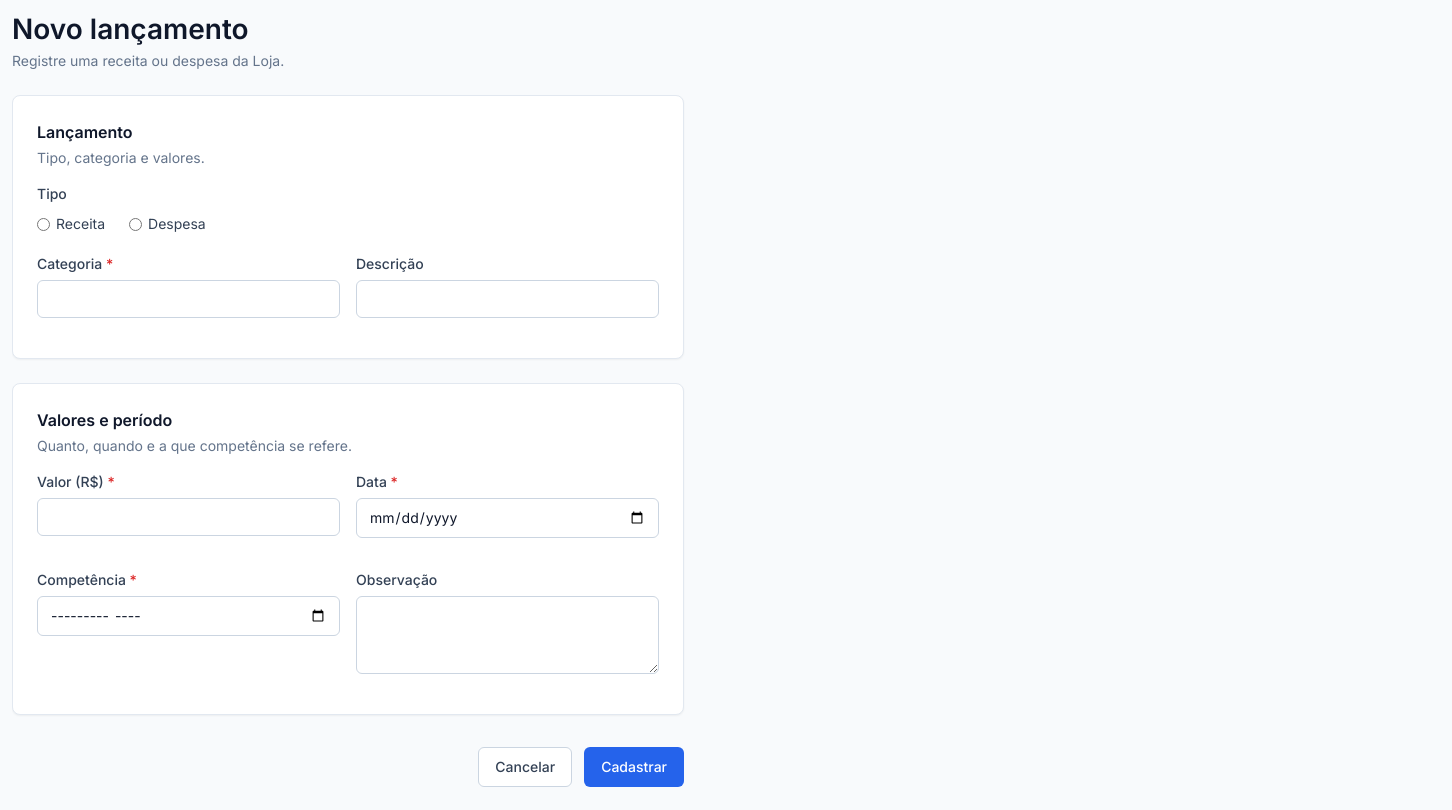
LancamentoFormPage — data não pode ser futura › exibe a mensagem 422 do backend para data futura
This screenshot has width=1452, height=810.
Step 1. Click the radio button labelled "Receita" → (44, 224), box [37,218,50,230]
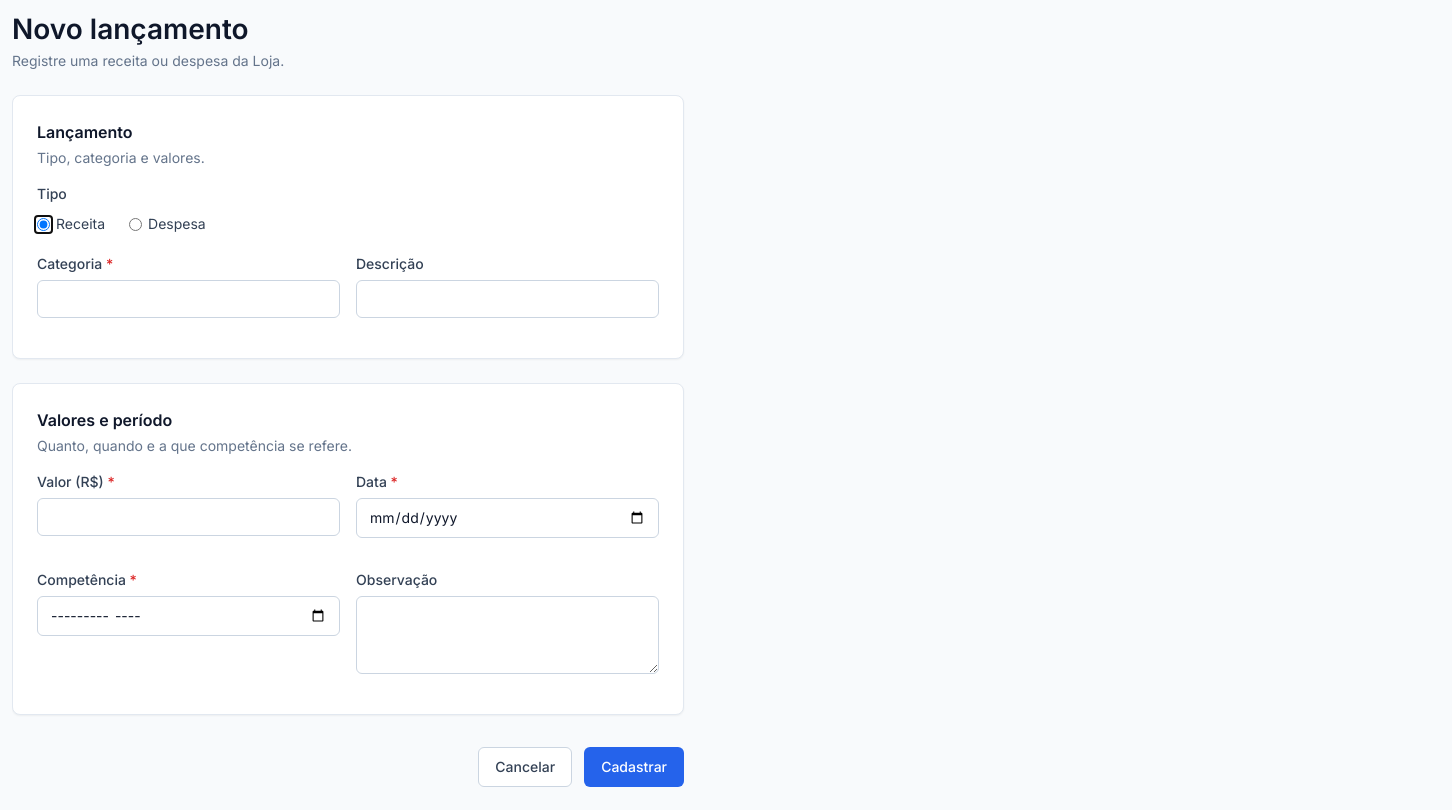
Step 2. Type "Doação" into the field labelled "Categoria *" → (188, 299), box [37,280,340,318]
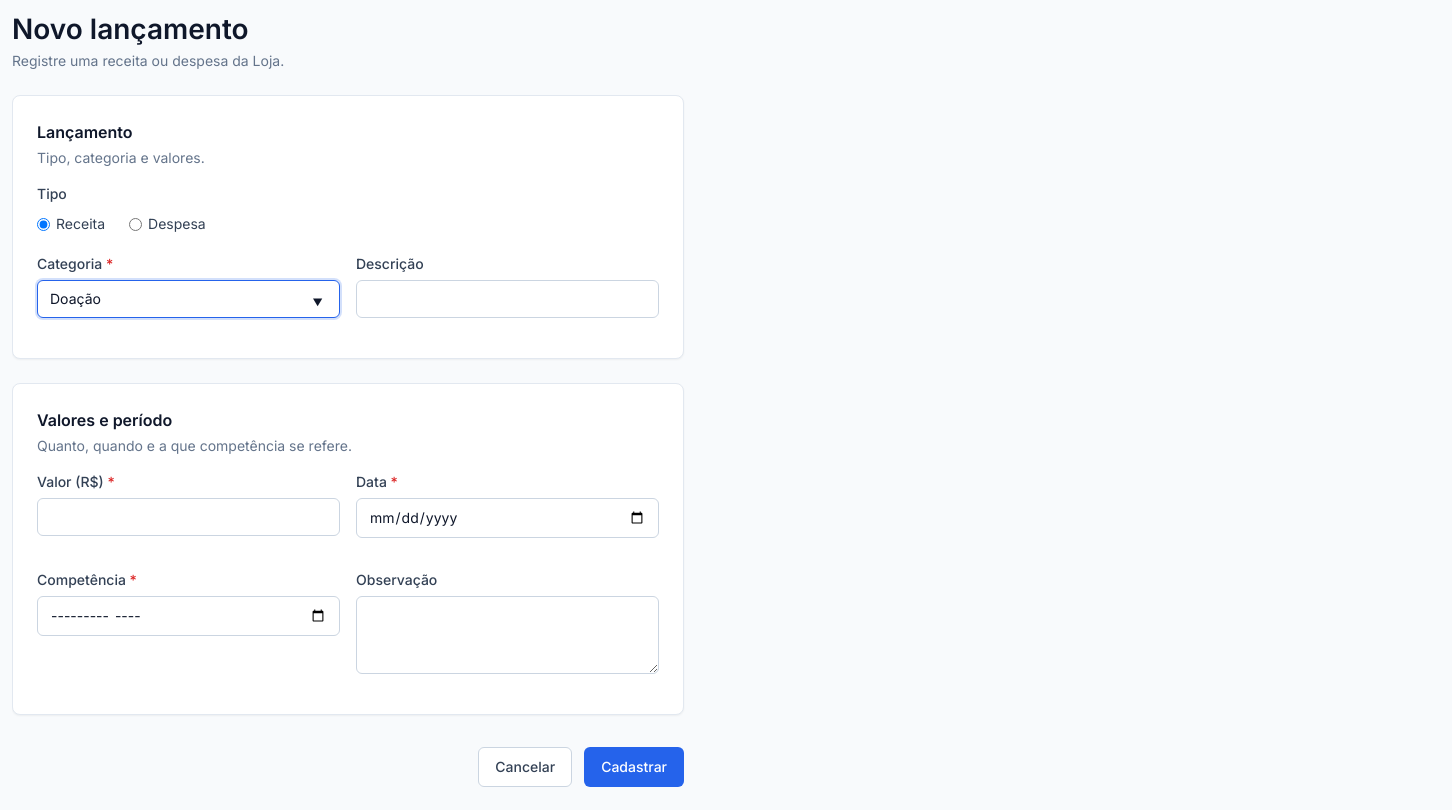
Step 3. Type "50" into the number field labelled "Valor (R$) *" → (188, 517), box [37,498,340,536]
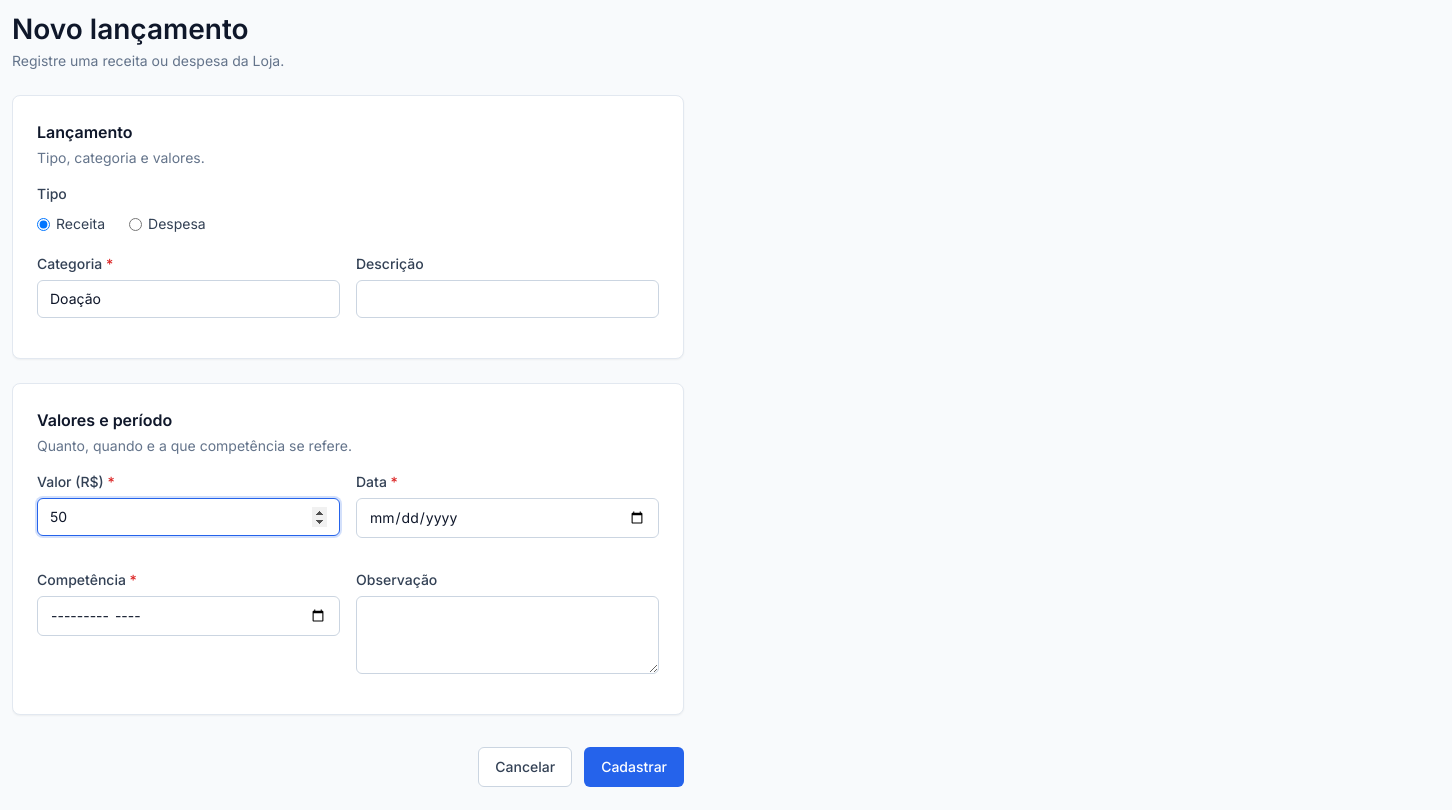
Step 4. Type "2026-08-31" into the date field labelled "Data *" → (508, 518), box [356,498,659,538]
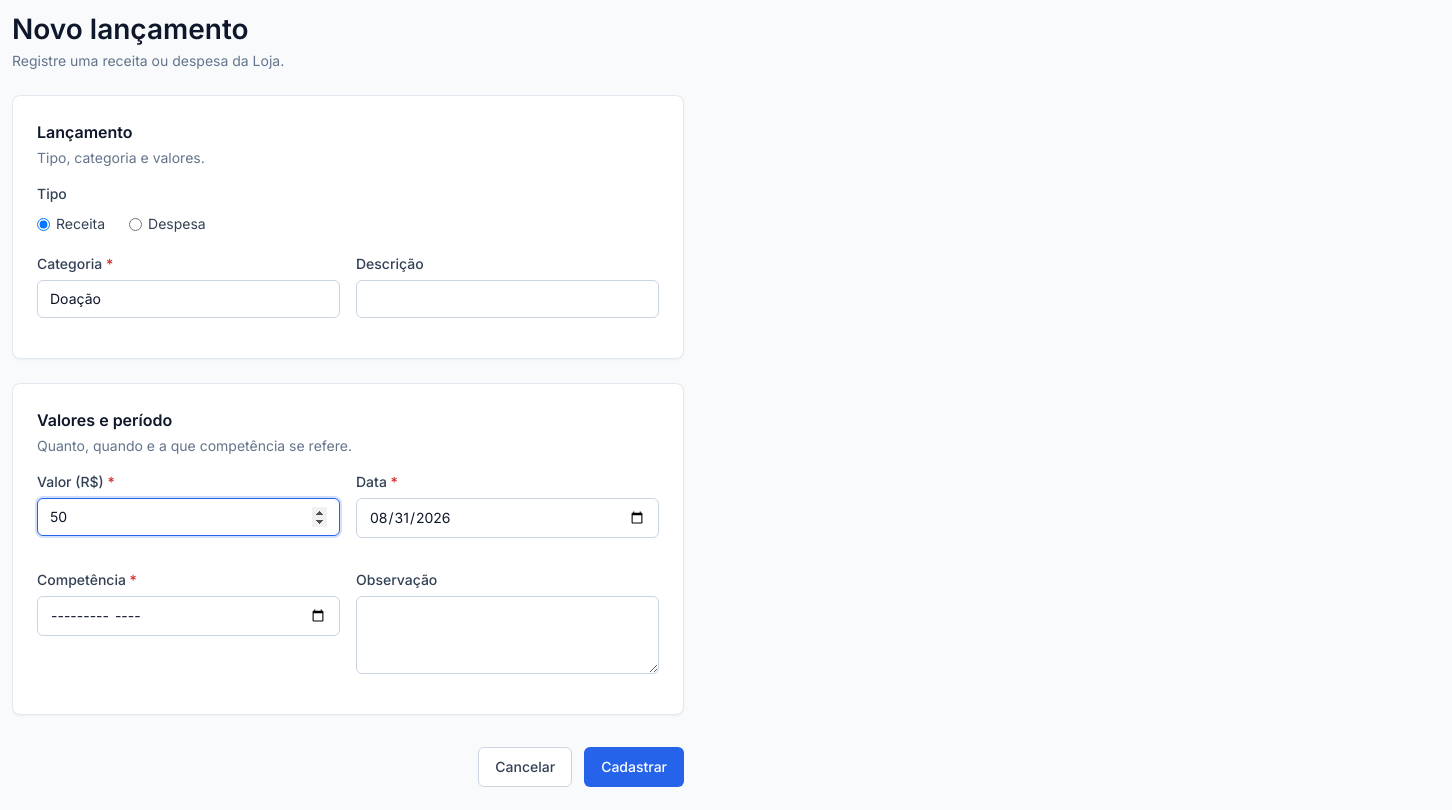
Step 5. Type "2026-08" into the field labelled "Competência *" → (188, 616), box [37,596,340,636]
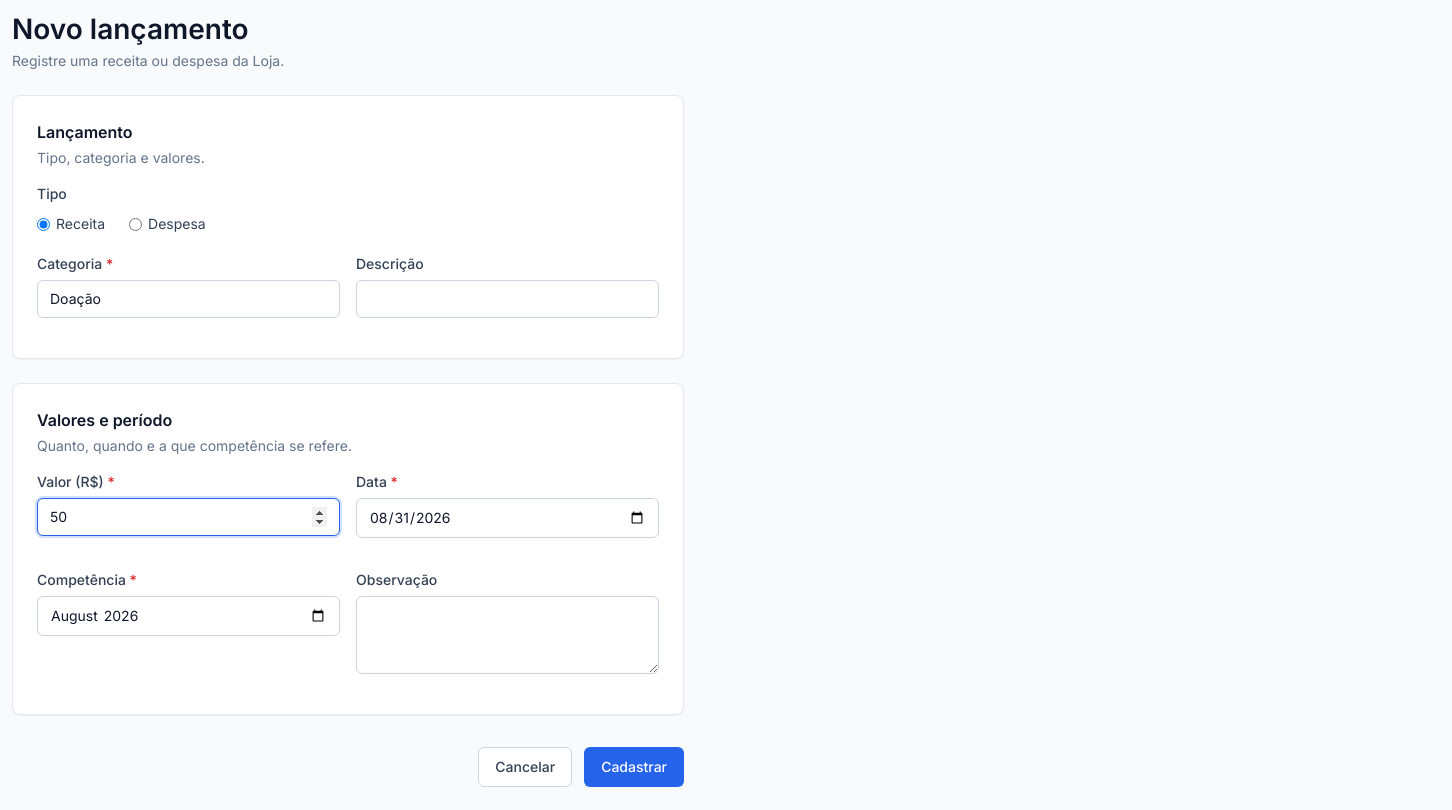
Step 6. Submit the form named "Cadastrar", box [12,95,684,787]
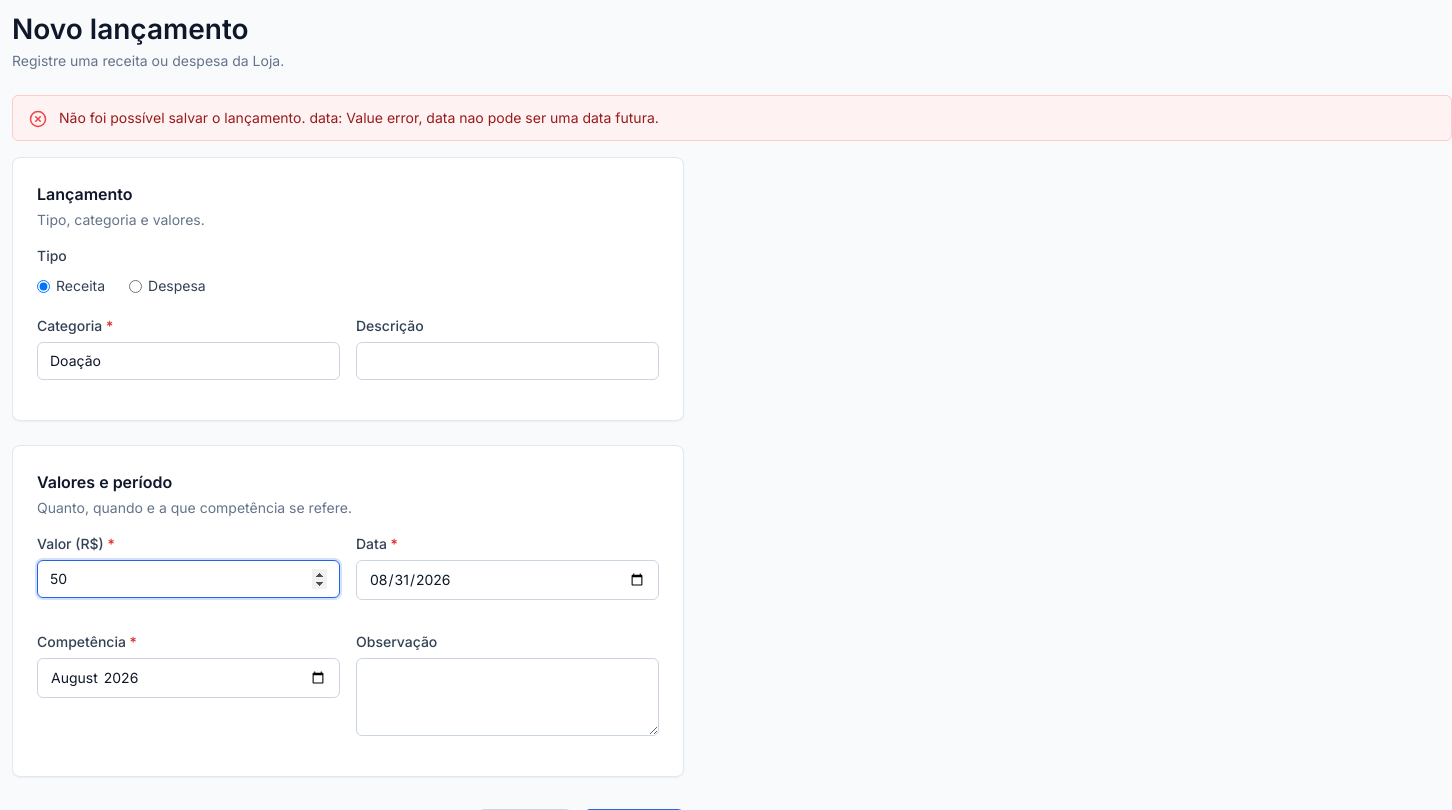
Result: the text "data nao pode ser uma data futura" is shown at [309,109,659,126]
